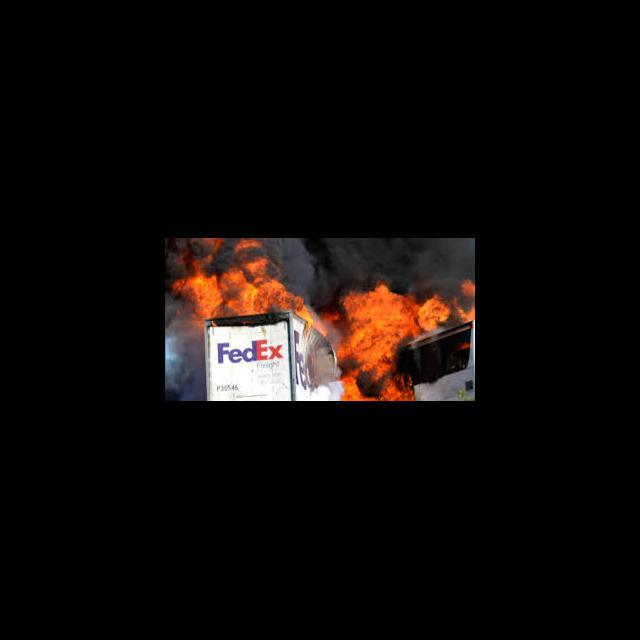Fire: (329, 278, 474, 401), (165, 238, 327, 334)
